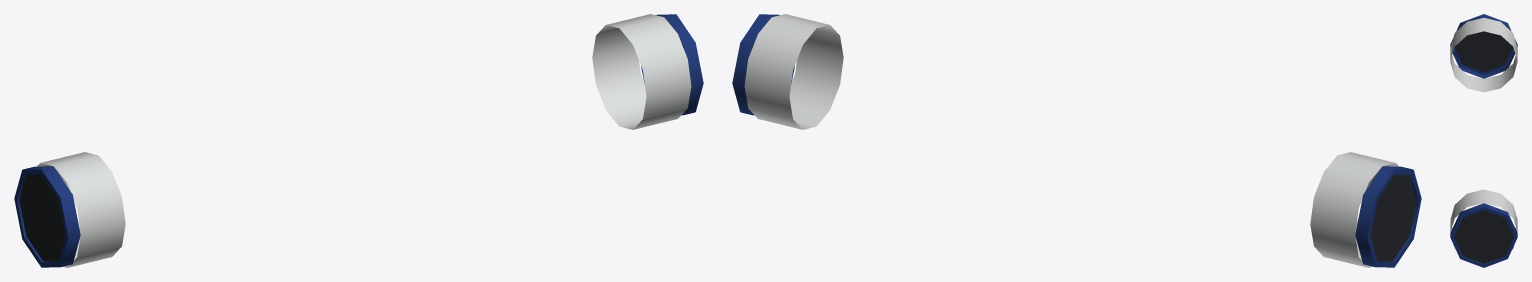
File: l200_fan.obj
The picture shows the model from 3 angles, left to right: view 1: azimuth 30°, elevation 25°; view 2: azimuth 150°, elevation 25°; view 3: azimuth 270°, elevation 25°; orthographic projection. The views are drawn at different scales.
Visible parts, largest first — view 1: l200_fan; view 2: l200_fan; view 3: l200_fan.
Part boxes in pixels (bbox=[...]): l200_fan: bbox=[14, 14, 703, 267]; l200_fan: bbox=[732, 14, 1421, 267]; l200_fan: bbox=[1450, 14, 1517, 267].
Bounding box in the file's own units: 6.22 × 0.92 × 0.92.
